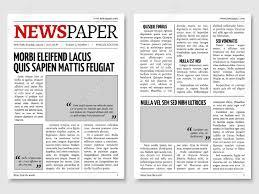Printing industry: (4, 9, 259, 184)
